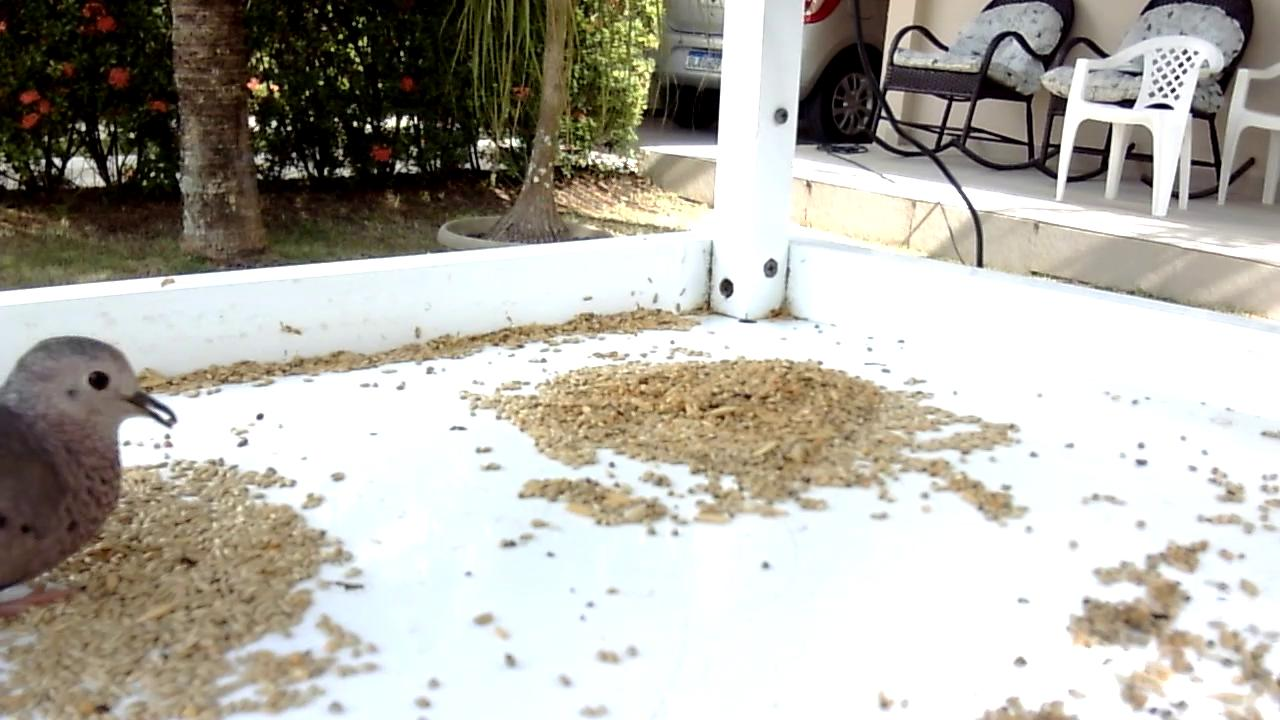rolinha: (1, 333, 182, 628)
